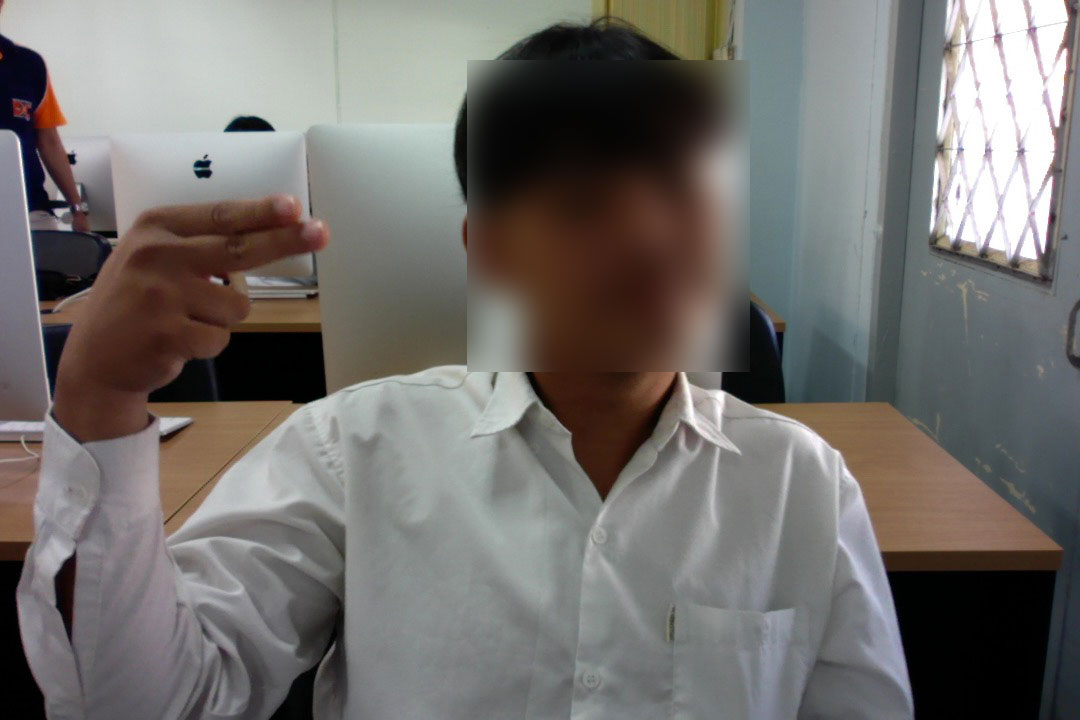hor: (47, 179, 355, 397)
